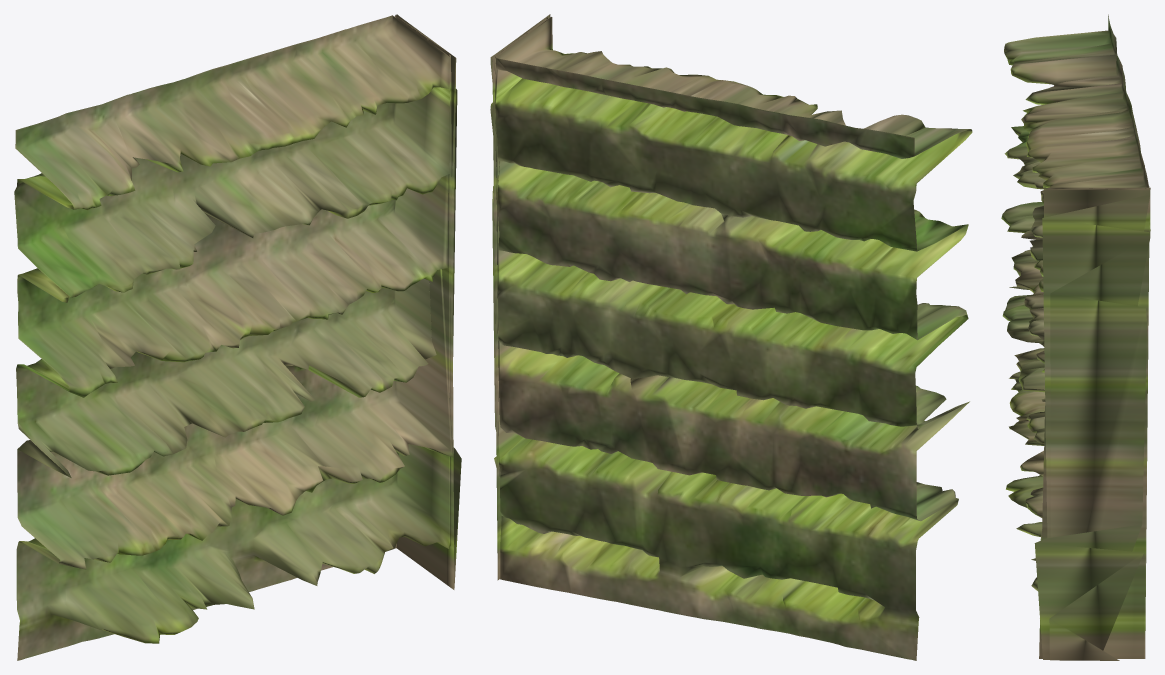
Rendered from map_230_100.obj.
3 renders of one model, left to right at view 1: azimuth 30°, elevation 25°; view 2: azimuth 150°, elevation 25°; view 3: azimuth 270°, elevation 25°, orthographic. The views are drawn at different scales.
Size of the model in its own units: 8 by 10 by 2.87.
Materials: 1 (1 with a texture image).
